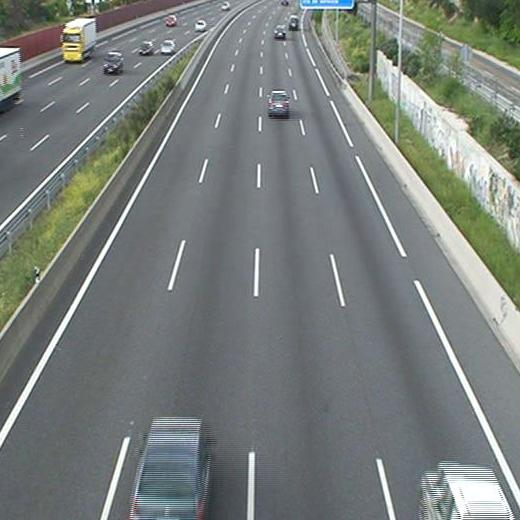car: (131, 417, 211, 520), (269, 92, 289, 114), (274, 25, 286, 38), (288, 16, 300, 29)
